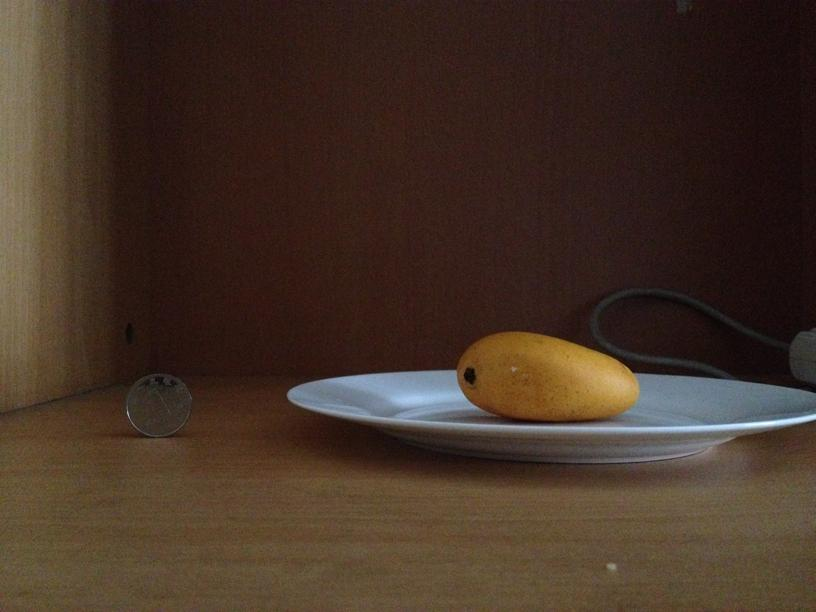coin: (127, 372, 192, 438)
mango: (455, 332, 640, 421)
